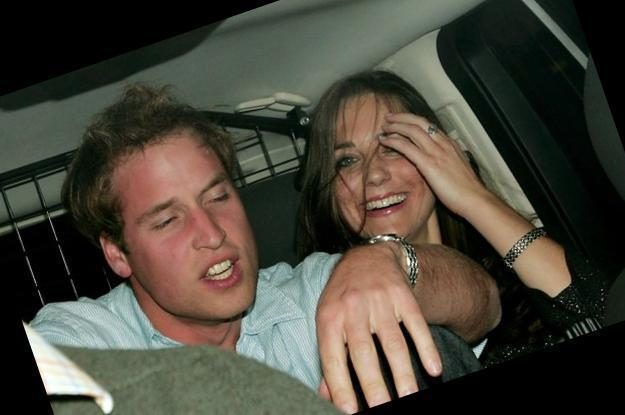Drunk: (129, 148, 254, 312), (325, 99, 425, 234)
